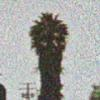chimneys: (91, 83, 100, 99)
